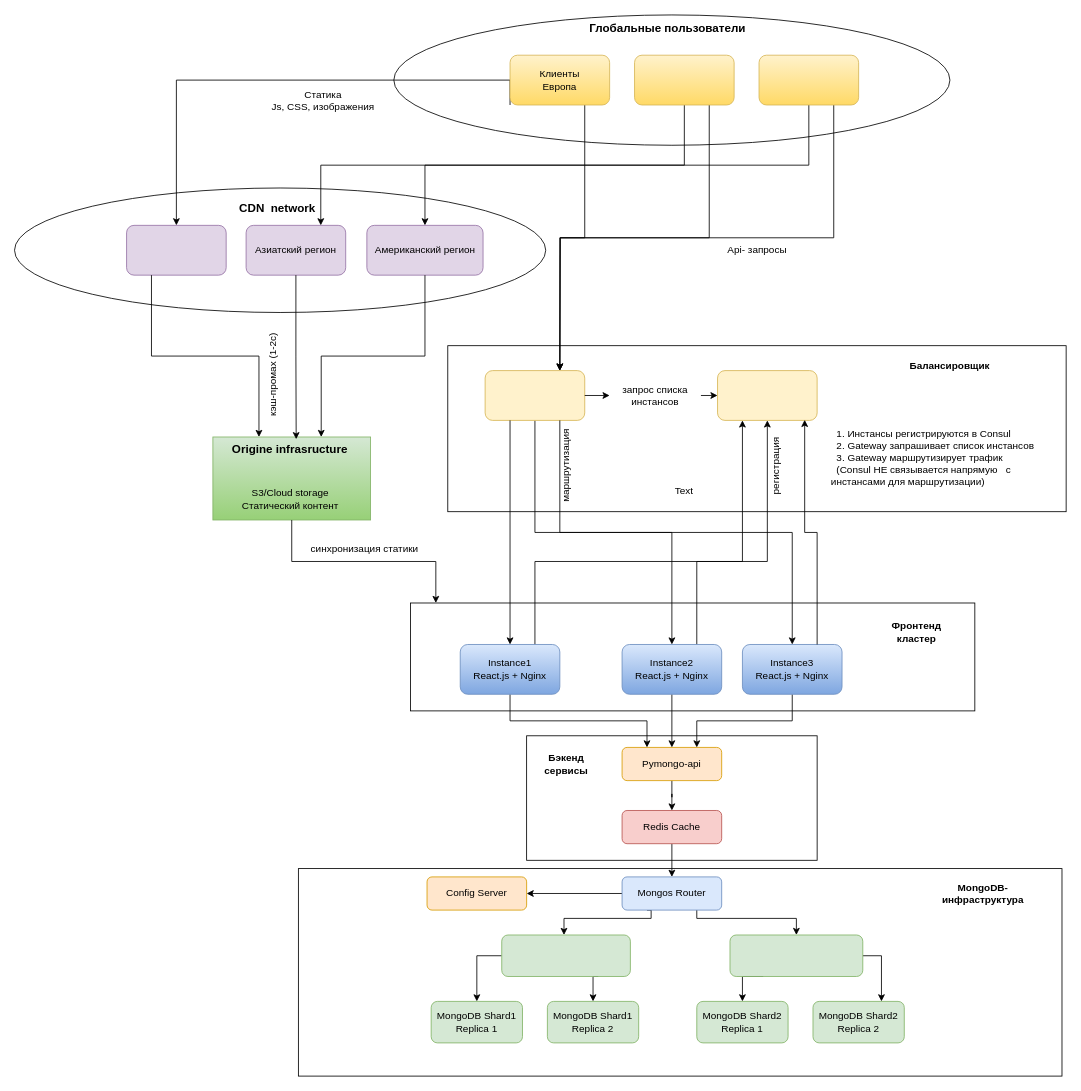
The diagram is 1081 pixels wide and 1091 high, and some of its shapes have lost their labels. The centre of each missing label's shape, as x and y in pixels:
"Api Gateway" belongs at pixel 534 395.
"Consul" belongs at pixel 767 395.
"MongoDB Shard1 Primary" belongs at pixel 565 955.
"MongoDB Shard2 Primary" belongs at pixel 796 955.
"Европейский регион" belongs at pixel 176 250.
"Клиенты Азия" belongs at pixel 684 79.
"Клиенты Америка" belongs at pixel 808 79.
